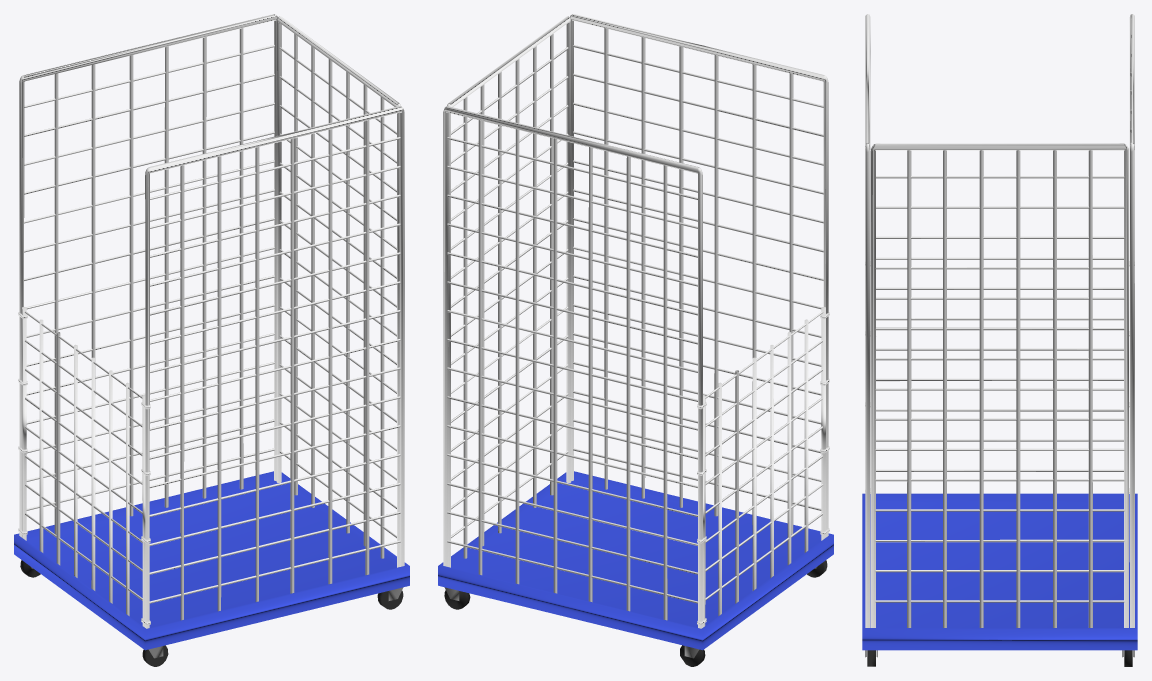
Rendered from Cestello con ruote.fbx.
3 renders of one model, left to right at view 1: azimuth 30°, elevation 25°; view 2: azimuth 150°, elevation 25°; view 3: azimuth 270°, elevation 25°, orthographic. The views are drawn at different scales.
Visible parts, largest first — view 1: Cestello con le ruote; view 2: Cestello con le ruote; view 3: Cestello con le ruote.
Part boxes in pixels (x1=…): Cestello con le ruote: x1=14, y1=14, x2=409, y2=666; Cestello con le ruote: x1=438, y1=14, x2=833, y2=666; Cestello con le ruote: x1=862, y1=14, x2=1137, y2=666.
Size of the model in its own units: 93.27 by 169 by 79.94.
